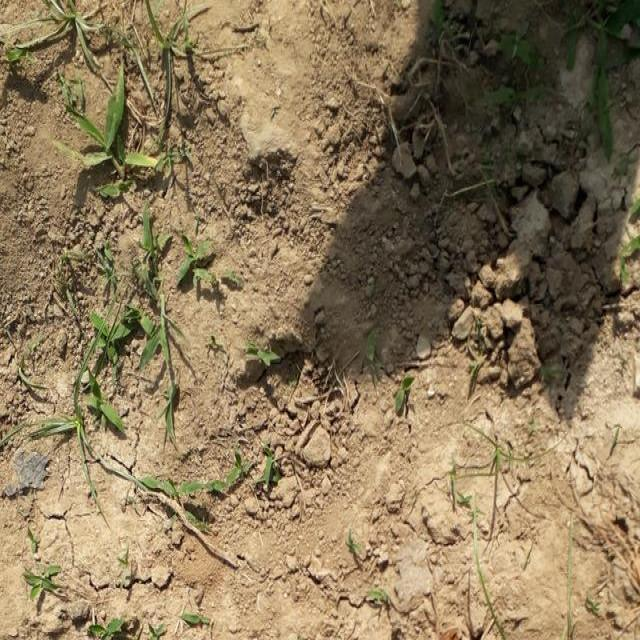weed: (72, 256, 194, 459), (48, 66, 186, 216)
